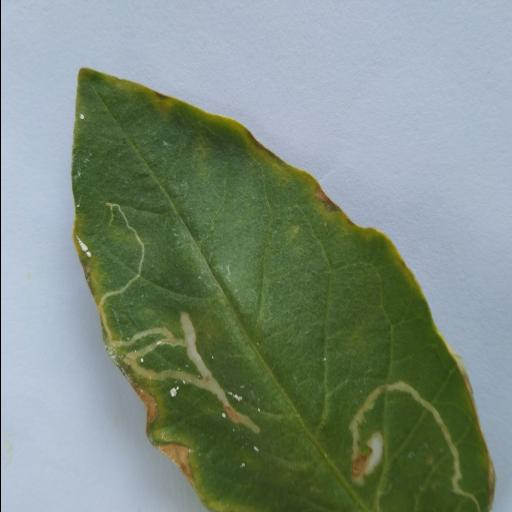Leaf Miner: (72, 65, 497, 512)
